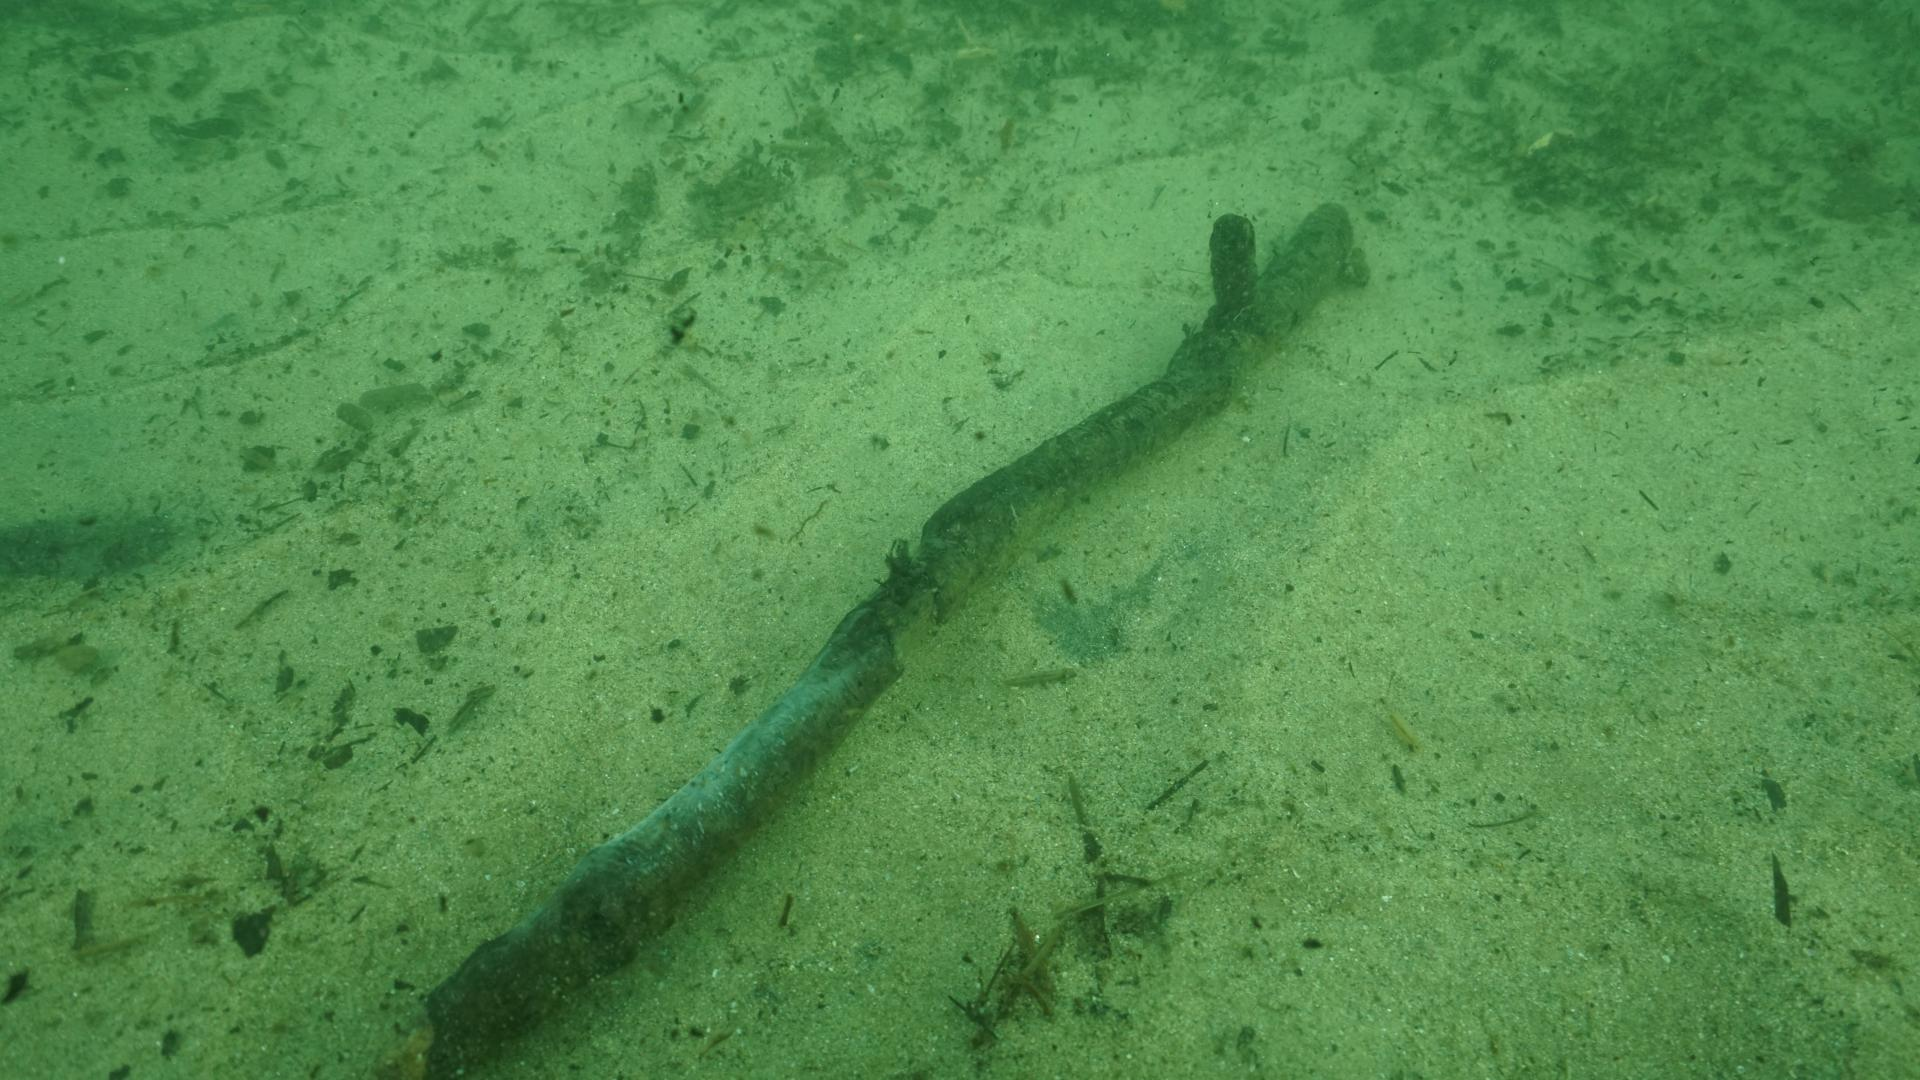wood: (419, 199, 1356, 1080)
